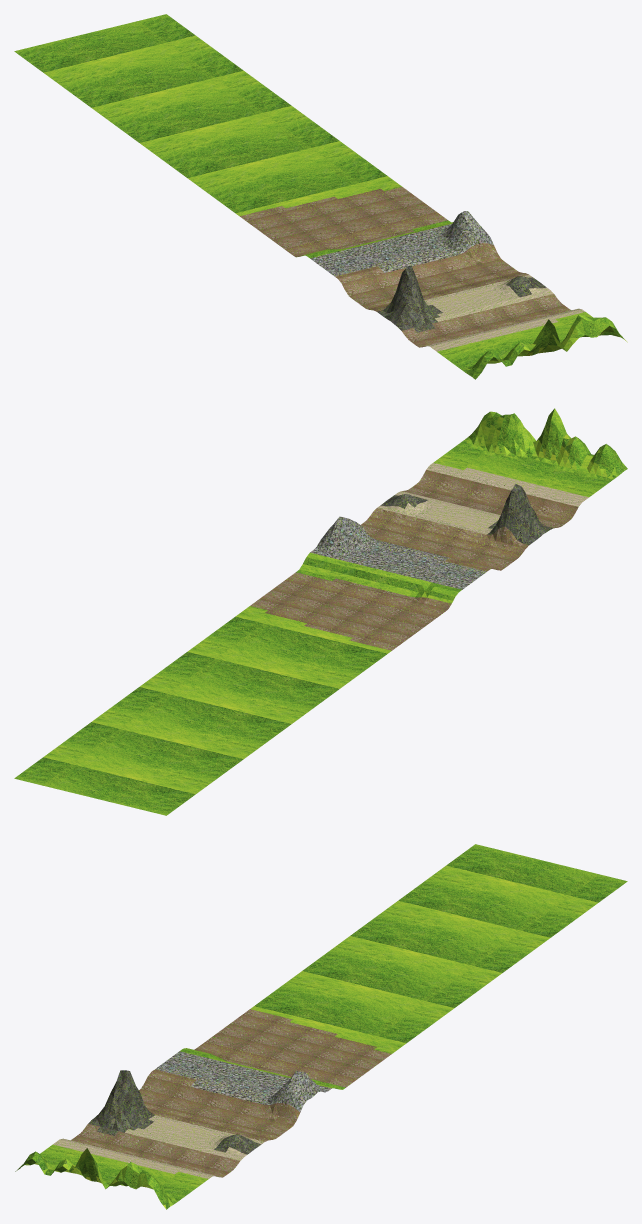
3 views of the same model, one above another, from view 1: azimuth 30°, elevation 25°; view 2: azimuth 150°, elevation 25°; view 3: azimuth 330°, elevation 25° (orthographic).
Visible parts, largest first — view 1: group_0 (×10); view 2: group_0 (×10); view 3: group_0 (×11).
Part boxes in pixels (x1,y1,x2,y2): group_0 (×10): (14,14,627,379); group_0 (×10): (14,408,627,815); group_0 (×11): (15,844,627,1209).
Size of the model in its own units: 2953 by 15472 by 980.
